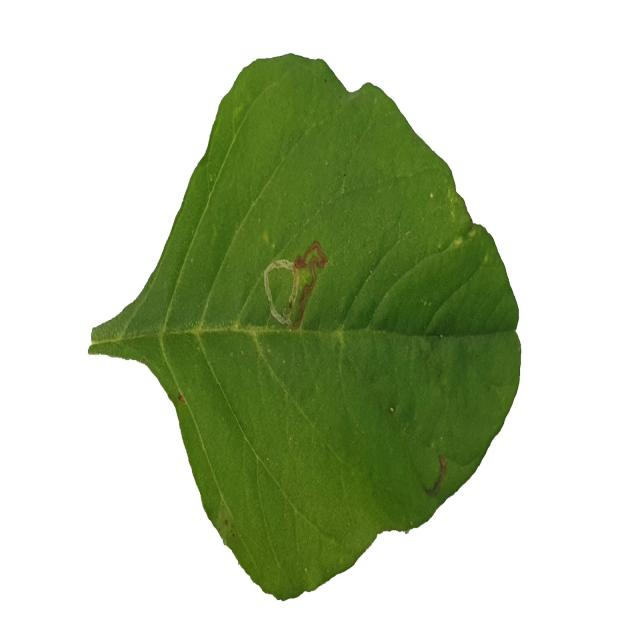Medicinal-Arive Dantu: (89, 43, 525, 600)
